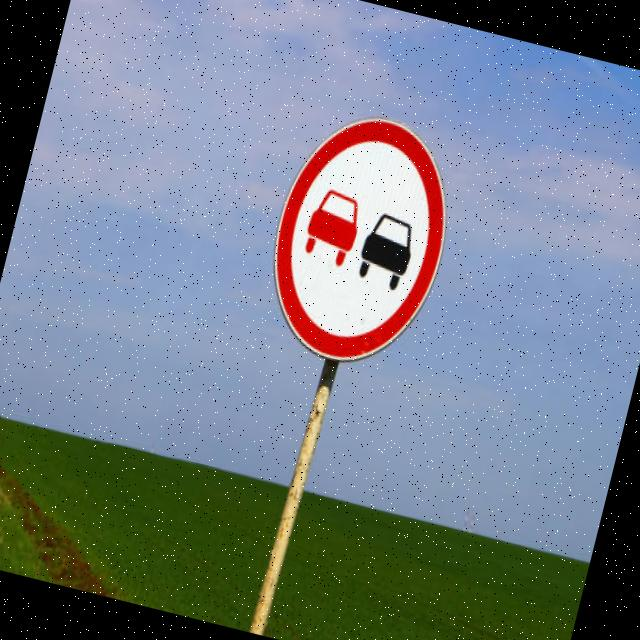no_passing: (238, 94, 480, 392)
